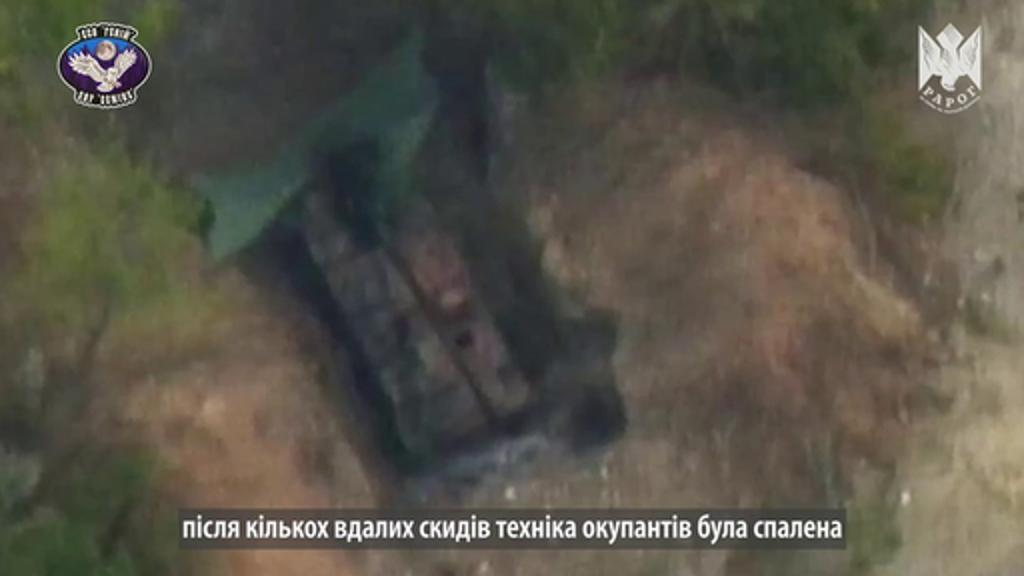ART: (280, 120, 570, 462)
